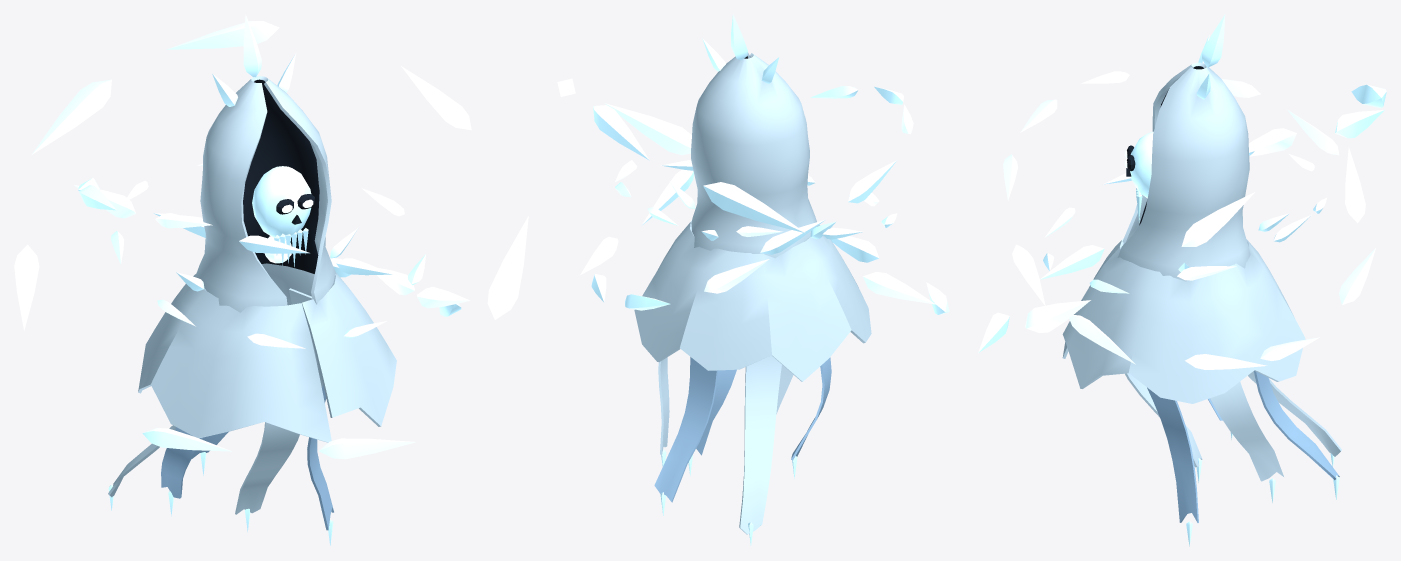
File: ice_wraith.glb
3 renders of one model, left to right at view 1: azimuth 30°, elevation 25°; view 2: azimuth 150°, elevation 25°; view 3: azimuth 270°, elevation 25°, orthographic. The views are drawn at different scales.
Parts seen in each view (by area): view 1: core, ring_3, ribbons, ring_2, ring_1; view 2: core, ribbons, ring_3, ring_2, ring_1; view 3: core, ribbons, ring_2, ring_3, ring_1.
Boxes of the visible parts, bbox=[...] form: core: bbox=[138, 14, 396, 442]; ring_3: bbox=[14, 21, 528, 459]; ribbons: bbox=[108, 288, 333, 545]; ring_2: bbox=[74, 178, 470, 316]; ring_1: bbox=[111, 163, 425, 348]; core: bbox=[634, 14, 871, 381]; ribbons: bbox=[654, 355, 831, 545]; ring_3: bbox=[557, 78, 949, 314]; ring_2: bbox=[580, 86, 913, 310]; ring_1: bbox=[615, 160, 897, 239]; core: bbox=[1062, 14, 1305, 403]; ribbons: bbox=[1125, 371, 1341, 546]; ring_2: bbox=[1003, 71, 1375, 369]; ring_3: bbox=[978, 84, 1386, 352]; ring_1: bbox=[1043, 147, 1326, 293].
Bounding box in the file's own units: 1.66 × 1.95 × 1.44.
